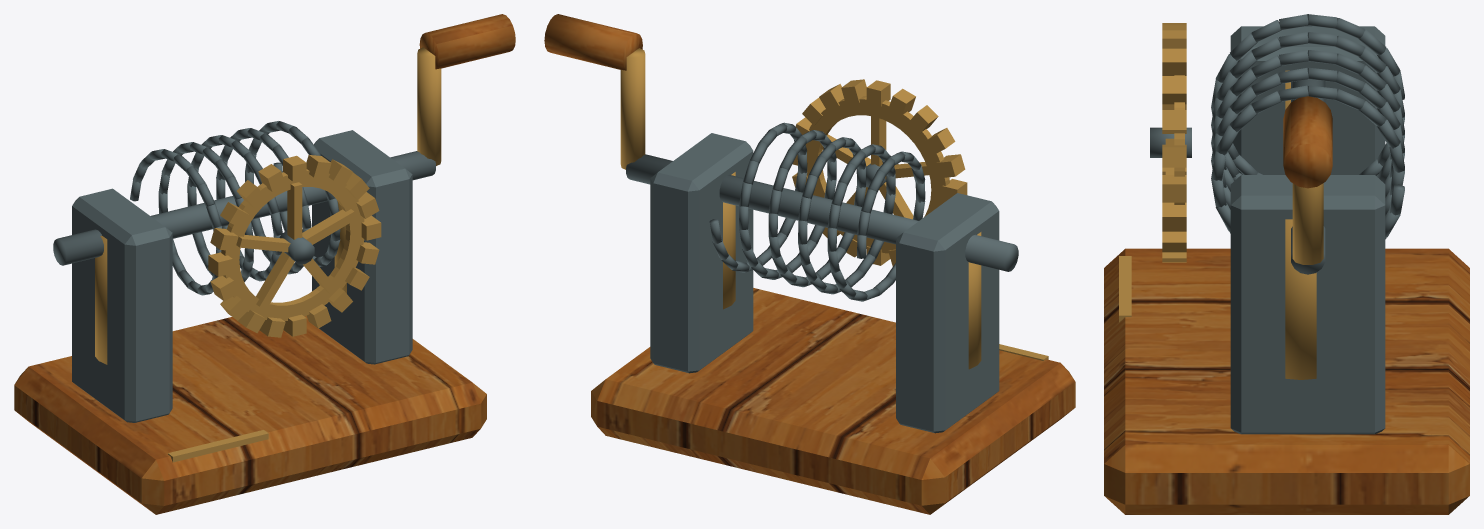
3 renders of one model, left to right at view 1: azimuth 30°, elevation 25°; view 2: azimuth 150°, elevation 25°; view 3: azimuth 270°, elevation 25°, orthographic. The views are drawn at different scales.
Parts seen in each view (by area): view 1: clockshop_walnut, clockshop_steel, clockshop_brass; view 2: clockshop_steel, clockshop_walnut, clockshop_brass; view 3: clockshop_walnut, clockshop_steel, clockshop_brass.
Boxes of the visible parts, box(x1,y1,x2,y2) form: clockshop_walnut: box(14, 14, 515, 514); clockshop_steel: box(53, 121, 435, 422); clockshop_brass: box(95, 47, 441, 462); clockshop_steel: box(626, 122, 1018, 433); clockshop_walnut: box(544, 14, 1075, 514); clockshop_brass: box(620, 48, 1048, 369); clockshop_walnut: box(1104, 96, 1469, 514); clockshop_steel: box(1150, 14, 1404, 434); clockshop_brass: box(1119, 23, 1323, 379).
Bounding box in the file's own units: 0.93 × 0.685 × 0.52.
3 materials, 1 textured.
